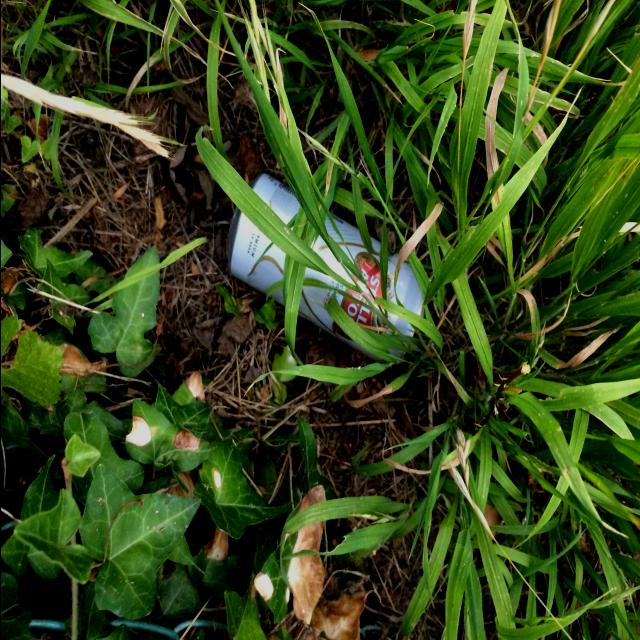Drink can: (224, 172, 429, 362)
